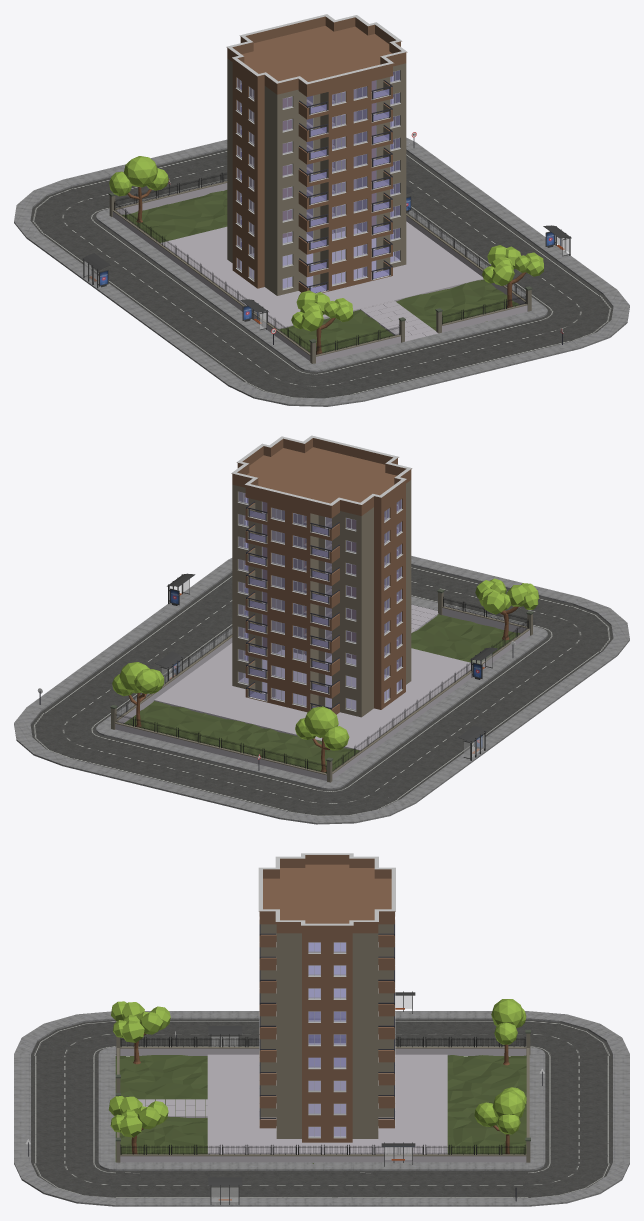
The model's file is building_1.glb.
The picture shows the model from 3 angles, top to bottom: view 1: azimuth 30°, elevation 25°; view 2: azimuth 150°, elevation 25°; view 3: azimuth 270°, elevation 25°; orthographic projection. The views are drawn at different scales.
Parts seen in each view (by area): view 1: Plane.011_0; view 2: Plane.011_0; view 3: Plane.011_0.
Part boxes in pixels (x1,y1,x2,y2): Plane.011_0: (14, 14, 629, 406); Plane.011_0: (14, 435, 629, 824); Plane.011_0: (14, 853, 629, 1206).
Size of the model in its own units: 30.13 by 15.92 by 40.4.
Materials: 11 (8 with a texture image).
